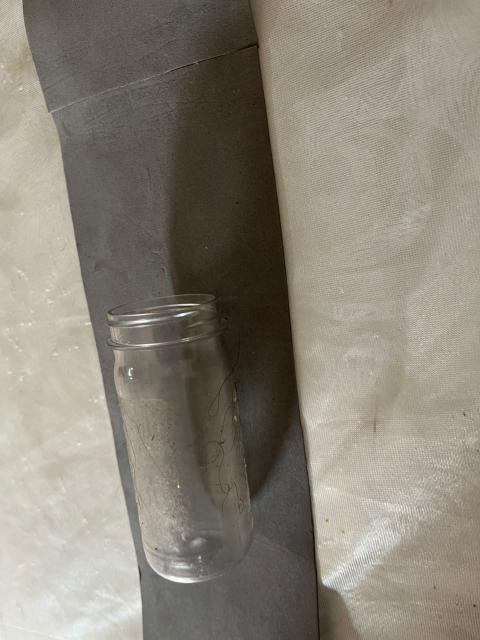PET: (92, 265, 275, 610)
